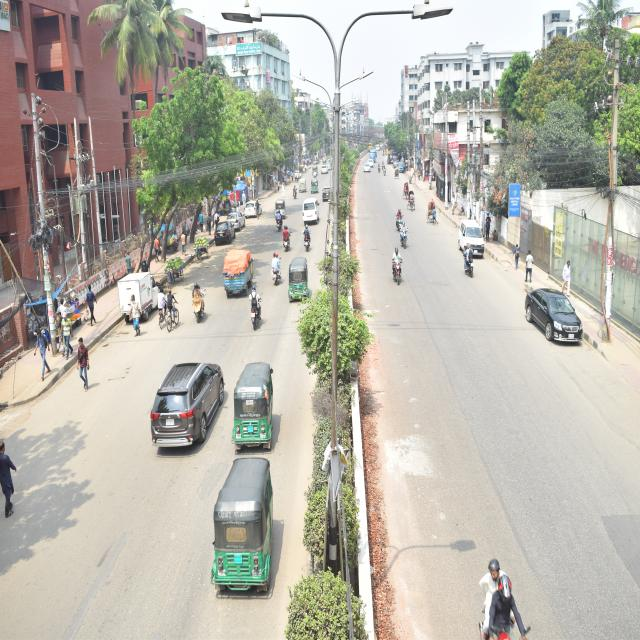car: (152, 354, 227, 458), (526, 283, 587, 350), (214, 217, 236, 250), (242, 197, 264, 220), (227, 210, 248, 234)
microbus: (456, 212, 490, 259), (300, 198, 323, 228)
motorbike: (460, 243, 477, 283), (247, 287, 262, 330), (389, 247, 405, 285), (192, 283, 205, 326), (269, 253, 283, 291), (301, 220, 315, 258), (398, 222, 410, 252), (272, 211, 284, 236), (282, 228, 292, 255), (393, 209, 404, 232)
pickup-van: (118, 269, 160, 324), (221, 244, 253, 296)
